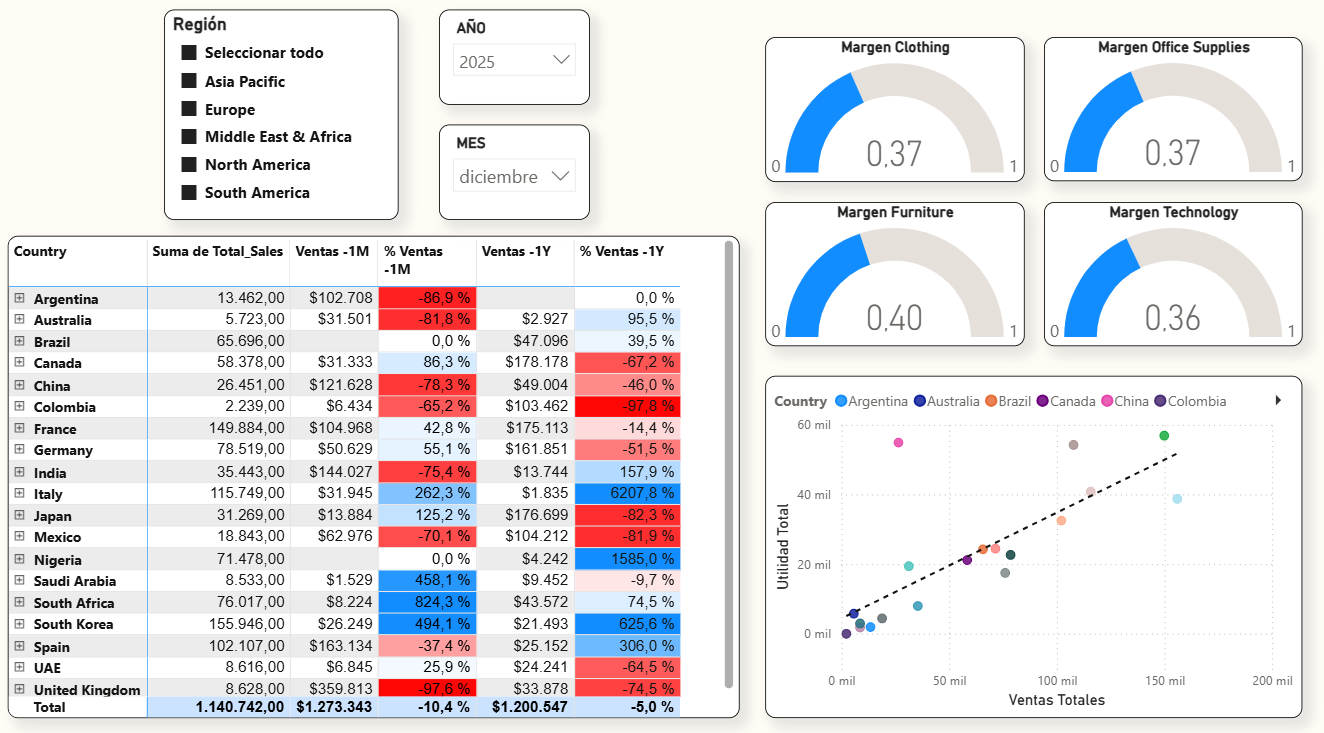

Layout of this report page (visuals, bound fields, positions):
{"tool":"powerbi","page":{"name":"Página 2","canvas":[1280,720],"ordinal":1},"visuals":[{"type":"gauge","title":"Margen Clothing","fields":{"Y":["Calendario.Suma de Profit dividido por Suma de Total_Sales"]},"box":[739.8,44,250,140],"z":0},{"type":"gauge","title":"Margen Furniture","fields":{"Y":["Calendario.Suma de Profit dividido por Suma de Total_Sales"]},"box":[739.8,203,250,139.4],"z":1000},{"type":"gauge","title":"Margen Office Supplies","fields":{"Y":["Calendario.Suma de Profit dividido por Suma de Total_Sales"]},"box":[1008.8,44,249.5,139.4],"z":2000},{"type":"gauge","title":"Margen Technology","fields":{"Y":["Calendario.Suma de Profit dividido por Suma de Total_Sales"]},"box":[1008.8,203,249.5,139.4],"z":3000},{"type":"slicer","title":"Región","fields":{"Values":["Global_Sales (2).Region"]},"box":[158.7,17.1,226.2,203],"z":4000},{"type":"pivotTable","fields":{"Rows":["Global_Sales (2).Country","Global_Sales (2).Product_Category"],"Values":["Sum(Global_Sales (2).Total_Sales)","Calendario.Ventas_mes_pasado","Calendario.% Variacion","Calendario.Ventas_año_pasado","Calendario.% Ventas -1Y"]},"box":[8.6,234.8,706.8,465.9],"z":5000},{"type":"scatterChart","fields":{"X":["Sum(Global_Sales (2).Total_Sales)"],"Y":["Sum(Global_Sales (2).Profit)"],"Series":["Global_Sales (2).Country"]},"box":[739.8,370.5,518.5,330.2],"z":6000},{"type":"slicer","fields":{"Values":["Calendario.MES_Nombre"]},"box":[424.3,128.4,145.5,91.7],"z":7000},{"type":"slicer","fields":{"Values":["Calendario.AÑO"]},"box":[424.3,17.1,145.5,91.7],"z":8000}]}

Visuals, with their boxes in screenshot pixels (x1, y1, x2, y2), scaled from the page's 1280x720 canvas onto the 1324x733 screenshot:
"Margen Clothing" gauge: locate(765, 45, 1024, 187)
"Margen Furniture" gauge: locate(765, 207, 1024, 349)
"Margen Office Supplies" gauge: locate(1043, 45, 1302, 187)
"Margen Technology" gauge: locate(1043, 207, 1302, 349)
"Región" slicer: locate(164, 17, 398, 224)
pivotTable - Global_Sales (2).Country x Global_Sales (2).Product_Category: locate(9, 239, 740, 713)
scatterChart - Sum(Global_Sales (2).Total_Sales) x Sum(Global_Sales (2).Profit): locate(765, 377, 1302, 713)
slicer - Calendario.MES_Nombre: locate(439, 131, 589, 224)
slicer - Calendario.AÑO: locate(439, 17, 589, 111)
